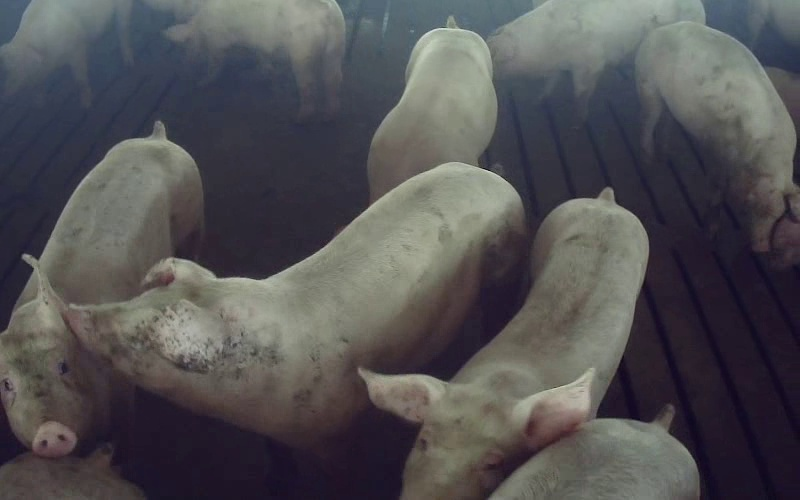pig: (64, 163, 524, 446), (360, 189, 648, 499), (0, 122, 202, 455), (636, 22, 795, 252), (487, 0, 704, 120), (367, 16, 496, 201), (166, 0, 344, 121), (0, 0, 132, 106)
